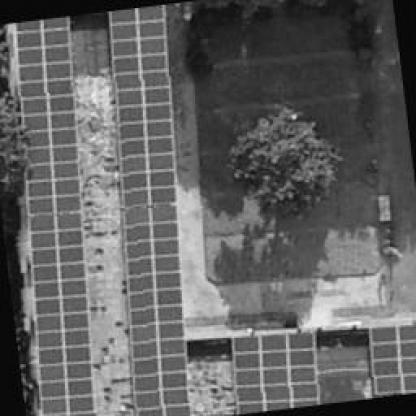solar-pv-panel: (108, 5, 189, 416), (14, 16, 95, 416), (230, 331, 317, 414), (368, 324, 416, 394)
